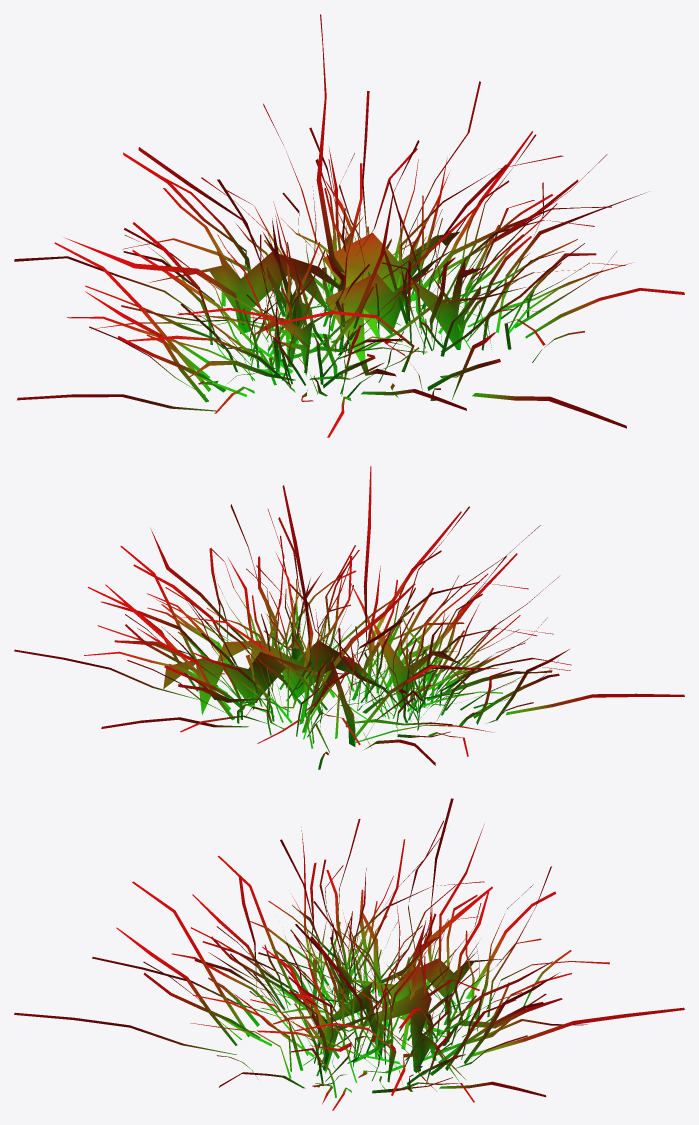
File: Tundra Grass_LOD2_Var24_wk2oaeyqx.fbx
3 views of the same model, one above another, from view 1: azimuth 30°, elevation 25°; view 2: azimuth 150°, elevation 25°; view 3: azimuth 270°, elevation 25° (orthographic). The views are drawn at different scales.
Parts seen in each view (by area): view 1: _1cez_Var24_LOD2; view 2: _1cez_Var24_LOD2; view 3: _1cez_Var24_LOD2.
Part boxes in pixels (x1,y1,x2,y2): _1cez_Var24_LOD2: [14, 14, 684, 437]; _1cez_Var24_LOD2: [14, 466, 684, 769]; _1cez_Var24_LOD2: [14, 798, 684, 1110].
Bounding box in the file's own units: 56.2 × 24.11 × 58.65.
